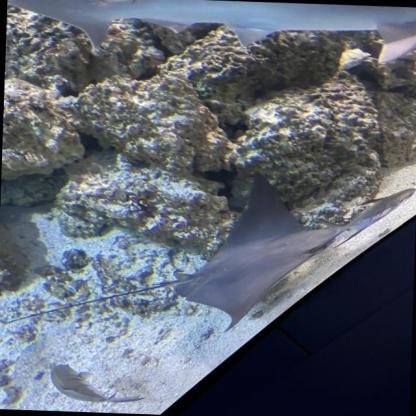fish: (322, 183, 416, 243), (50, 363, 140, 403)
shark: (6, 0, 416, 67)
stingray: (171, 165, 342, 335)
